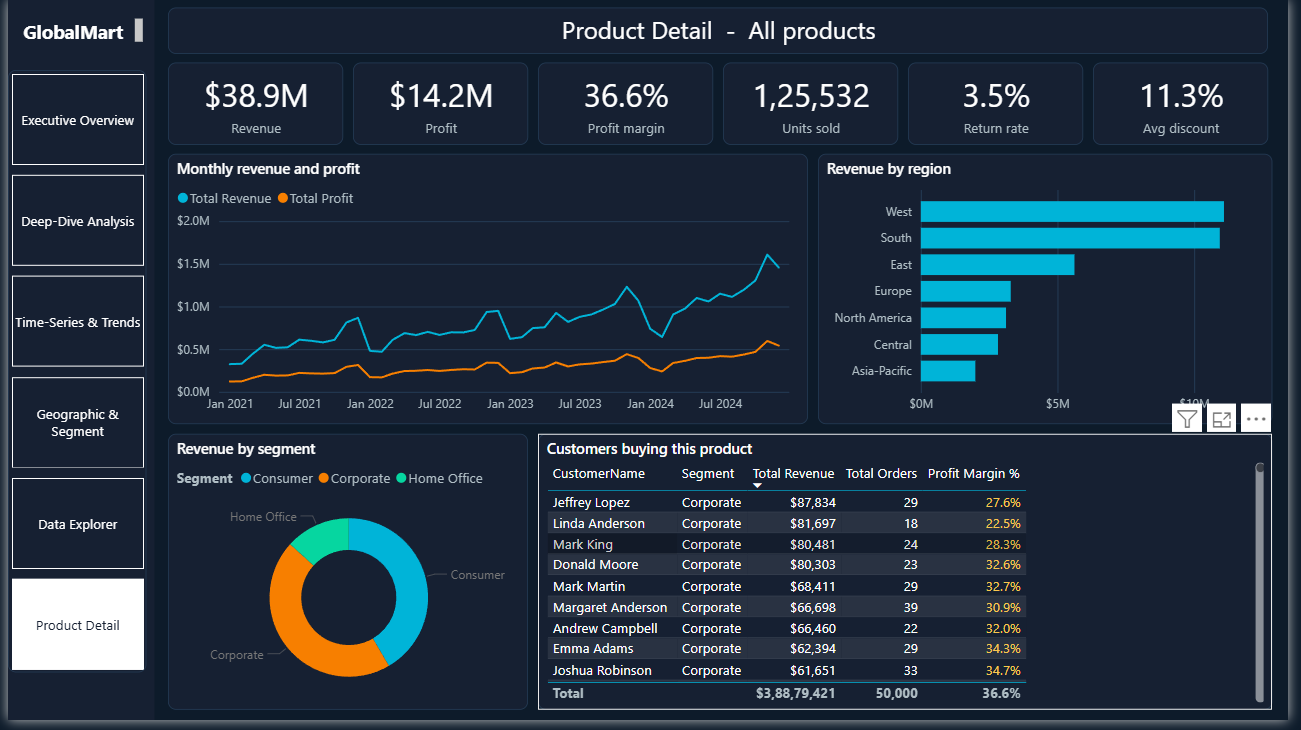

Layout of this report page (visuals, bound fields, positions):
{"tool":"powerbi","page":{"name":"Product Detail","canvas":[1280,720],"ordinal":5},"visuals":[{"type":"textbox","box":[0,0,146,720],"z":100},{"type":"textbox","box":[10,14,130,34],"z":200},{"type":"card","fields":{"Values":["_Measures.Product Title"]},"box":[160,8,1100,46],"z":400},{"type":"card","fields":{"Values":["_Measures.Total Revenue (M)"]},"box":[160,62,175,82],"z":500},{"type":"card","fields":{"Values":["_Measures.Total Profit (M)"]},"box":[345,62,175,82],"z":600},{"type":"card","fields":{"Values":["_Measures.Profit Margin %"]},"box":[530,62,175,82],"z":700},{"type":"card","fields":{"Values":["_Measures.Units Sold"]},"box":[715,62,175,82],"z":800},{"type":"card","fields":{"Values":["_Measures.Return Rate %"]},"box":[900,62,175,82],"z":900},{"type":"card","fields":{"Values":["_Measures.Avg Discount %"]},"box":[1085,62,175,82],"z":1000},{"type":"lineChart","title":"Monthly revenue and profit","fields":{"Category":["DimDate.MonthStart"],"Y":["_Measures.Total Revenue","_Measures.Total Profit"]},"box":[160,154,640,270],"z":1100},{"type":"clusteredBarChart","title":"Revenue by region","fields":{"Category":["DimRegion.Region"],"Y":["_Measures.Total Revenue"]},"box":[810,154,454,270],"z":1200},{"type":"donutChart","title":"Revenue by segment","fields":{"Category":["DimCustomer.Segment"],"Y":["_Measures.Total Revenue"]},"box":[160,434,360,276],"z":1300},{"type":"tableEx","title":"Customers buying this product","fields":{"Values":["DimCustomer.CustomerName","DimCustomer.Segment","_Measures.Total Revenue","_Measures.Total Orders","_Measures.Profit Margin %"]},"box":[530,434,734,276],"z":1400},{"type":"pageNavigator","box":[0,70.2,138.1,602.4],"z":1401}]}

Visuals, with their boxes on the page's 1280x720 design canvas (x1, y1, x2, y2). These are canvas units, not pixel positions in the 1301x730 screenshot, which may show the page scaled, cropped or inside an application window:
textbox: x1=0 y1=0 x2=146 y2=720
textbox: x1=10 y1=14 x2=140 y2=48
card - _Measures.Product Title: x1=160 y1=8 x2=1260 y2=54
card - _Measures.Total Revenue (M): x1=160 y1=62 x2=335 y2=144
card - _Measures.Total Profit (M): x1=345 y1=62 x2=520 y2=144
card - _Measures.Profit Margin %: x1=530 y1=62 x2=705 y2=144
card - _Measures.Units Sold: x1=715 y1=62 x2=890 y2=144
card - _Measures.Return Rate %: x1=900 y1=62 x2=1075 y2=144
card - _Measures.Avg Discount %: x1=1085 y1=62 x2=1260 y2=144
"Monthly revenue and profit" lineChart: x1=160 y1=154 x2=800 y2=424
"Revenue by region" clusteredBarChart: x1=810 y1=154 x2=1264 y2=424
"Revenue by segment" donutChart: x1=160 y1=434 x2=520 y2=710
"Customers buying this product" tableEx: x1=530 y1=434 x2=1264 y2=710
pageNavigator: x1=0 y1=70 x2=138 y2=673
